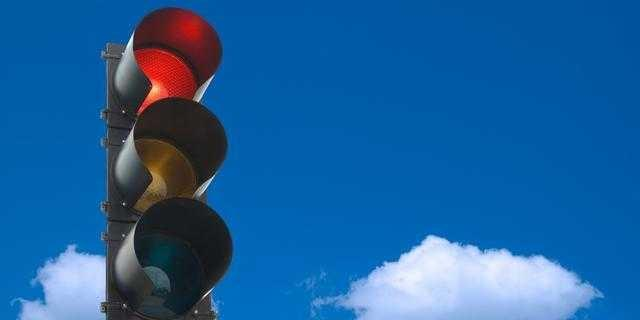red: (106, 41, 213, 317), (111, 34, 202, 128)
